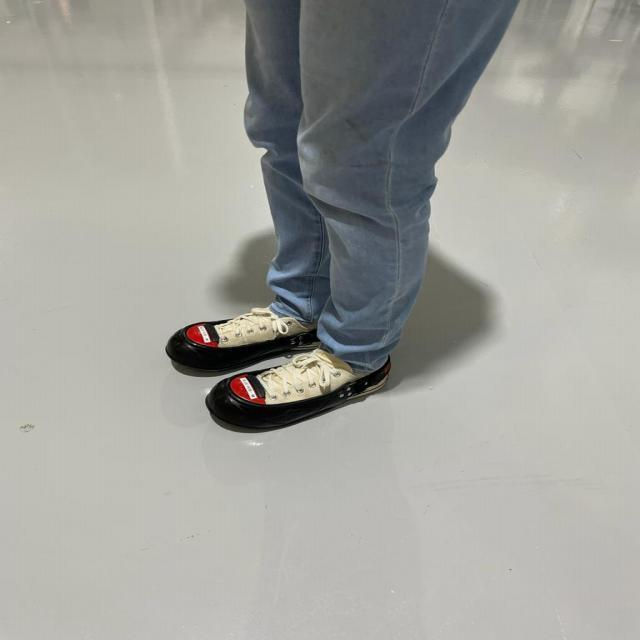shoes: (208, 344, 393, 430), (163, 308, 306, 372)
